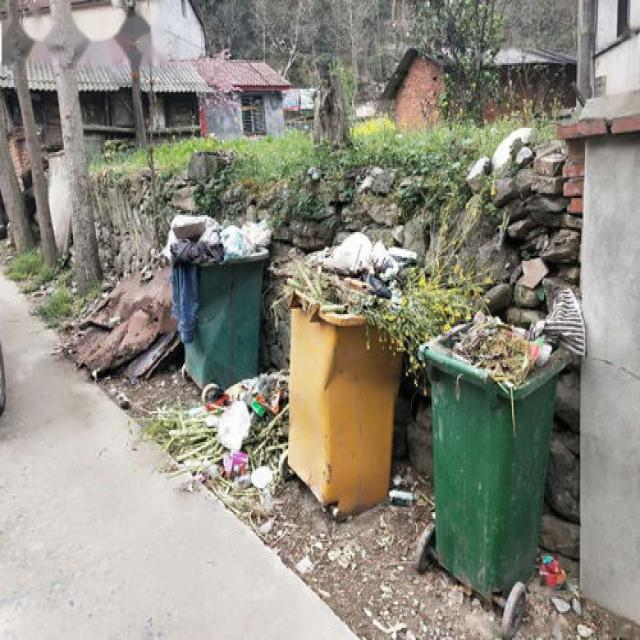garbage: (132, 367, 288, 515)
overflow: (414, 285, 584, 594), (268, 228, 403, 514), (169, 212, 271, 389)
